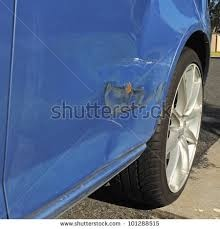Dent: (5, 127, 114, 178), (133, 2, 196, 61), (102, 82, 147, 115)
